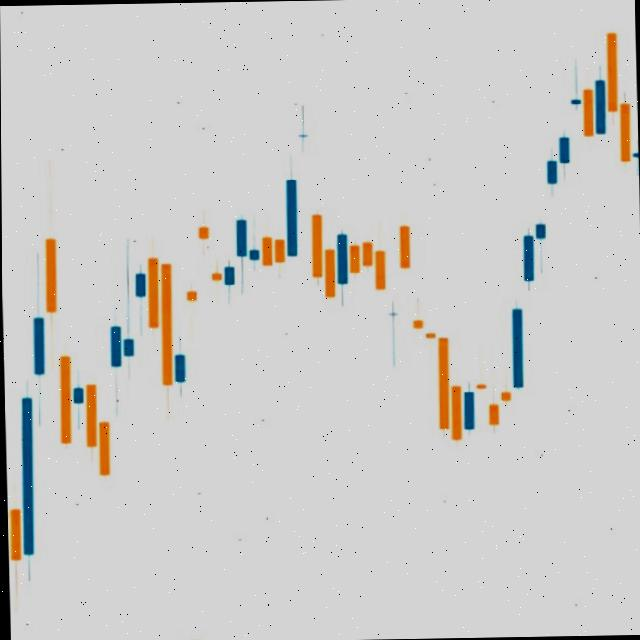Gap Down: (41, 236, 71, 446), (297, 130, 326, 282), (401, 228, 422, 328), (374, 250, 402, 321), (195, 222, 221, 285), (477, 382, 499, 430)
Gap Up: (13, 318, 45, 556), (507, 232, 541, 388), (5, 391, 34, 560), (95, 324, 123, 473), (283, 128, 310, 255), (386, 221, 413, 318), (181, 220, 212, 303), (123, 270, 147, 362), (535, 158, 559, 242), (559, 95, 583, 167)
